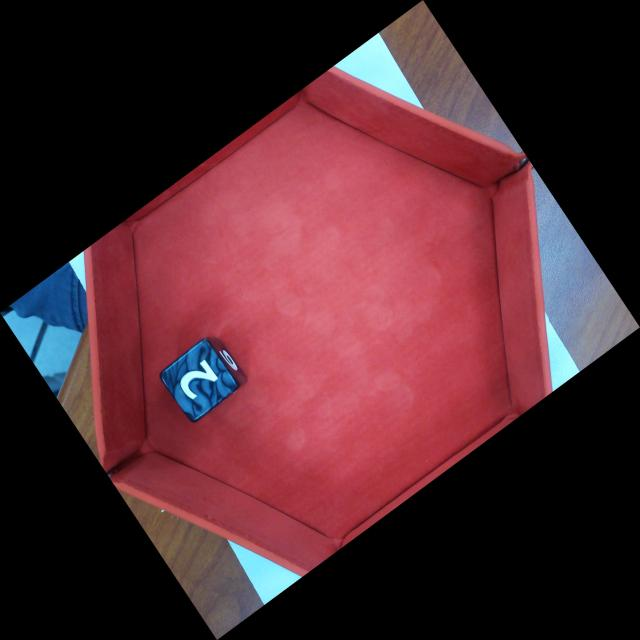dice: (162, 338, 243, 425)
